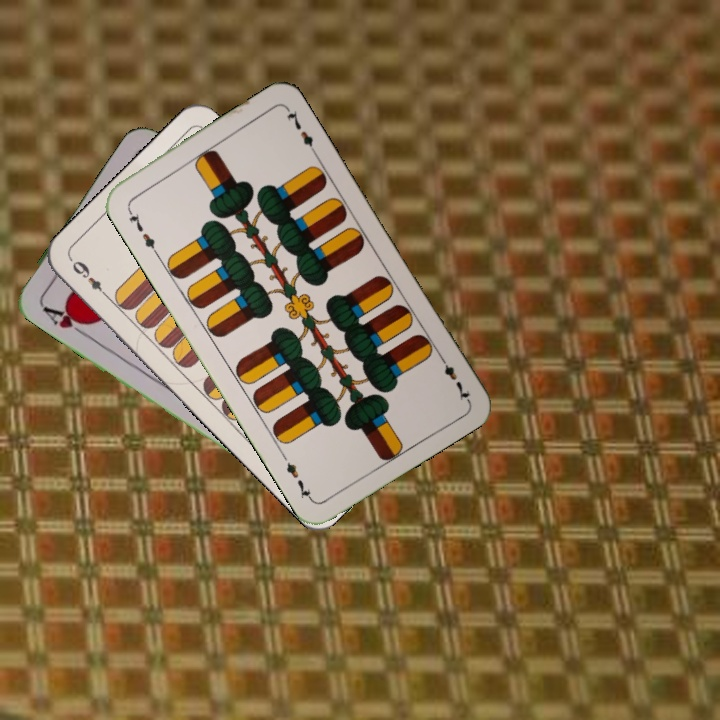E7: (434, 350, 473, 403), (123, 203, 160, 257)
E9: (68, 256, 112, 302)
HA: (37, 300, 92, 339)
